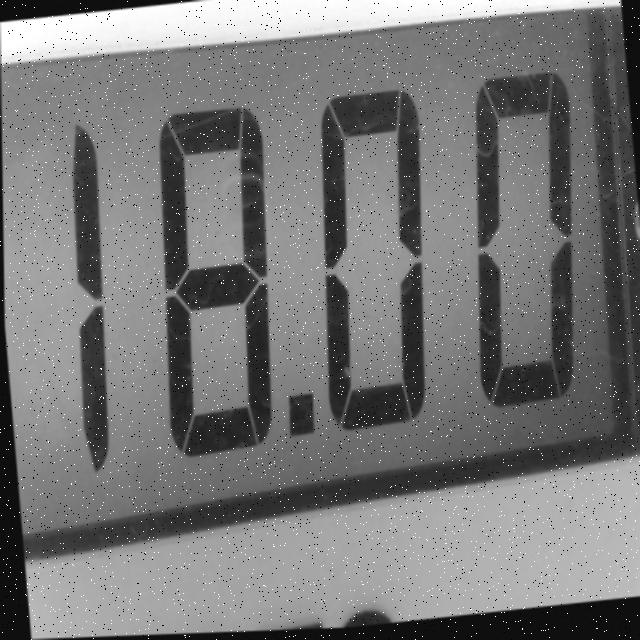.: (269, 350, 329, 471)
0: (436, 57, 601, 432), (295, 81, 448, 457)
1: (35, 117, 141, 474)
8: (128, 90, 285, 464)
